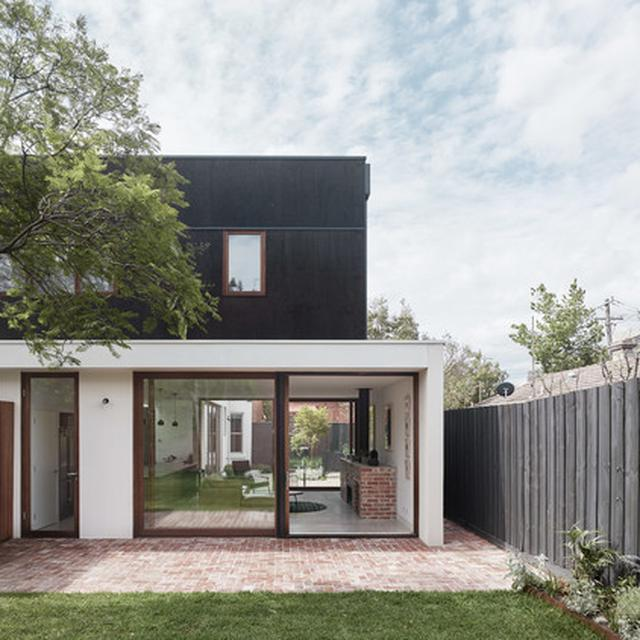building: (1, 148, 450, 548)
